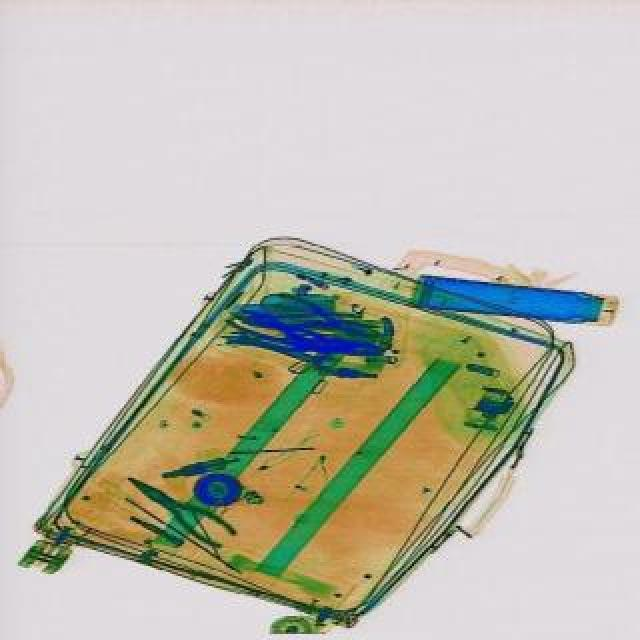scissors: (224, 324, 336, 376)
wrench: (260, 288, 386, 348)
